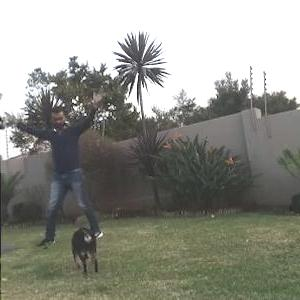takeoff: (12, 86, 101, 245)
